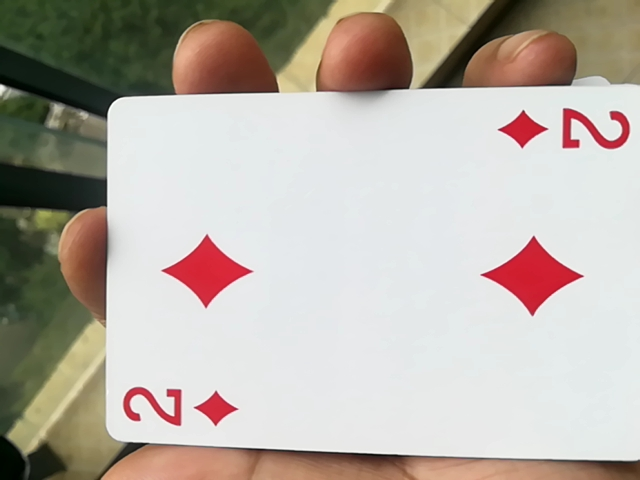fk 2: (85, 97, 636, 474)
